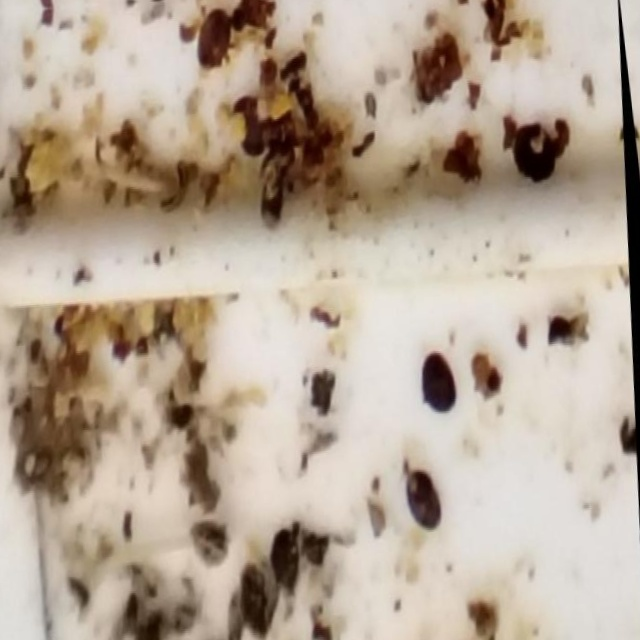varroa: (398, 468, 448, 541), (416, 347, 465, 421), (269, 527, 309, 602)
